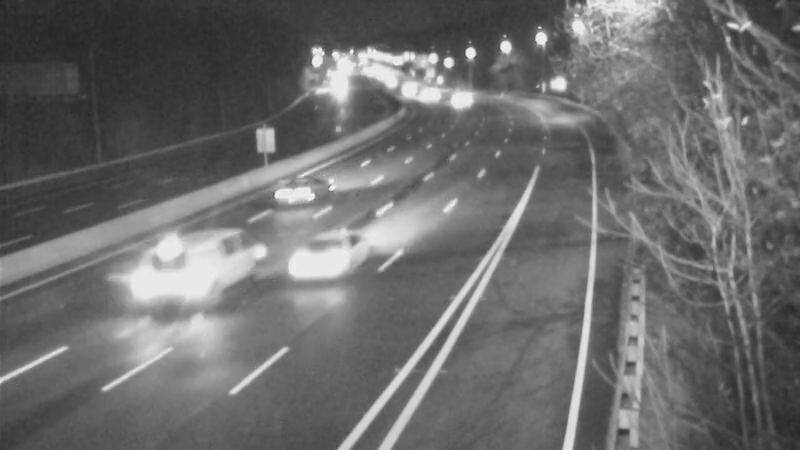vehicle: (248, 148, 328, 228), (280, 225, 360, 305), (132, 239, 212, 319), (404, 67, 454, 117), (439, 75, 489, 125)
